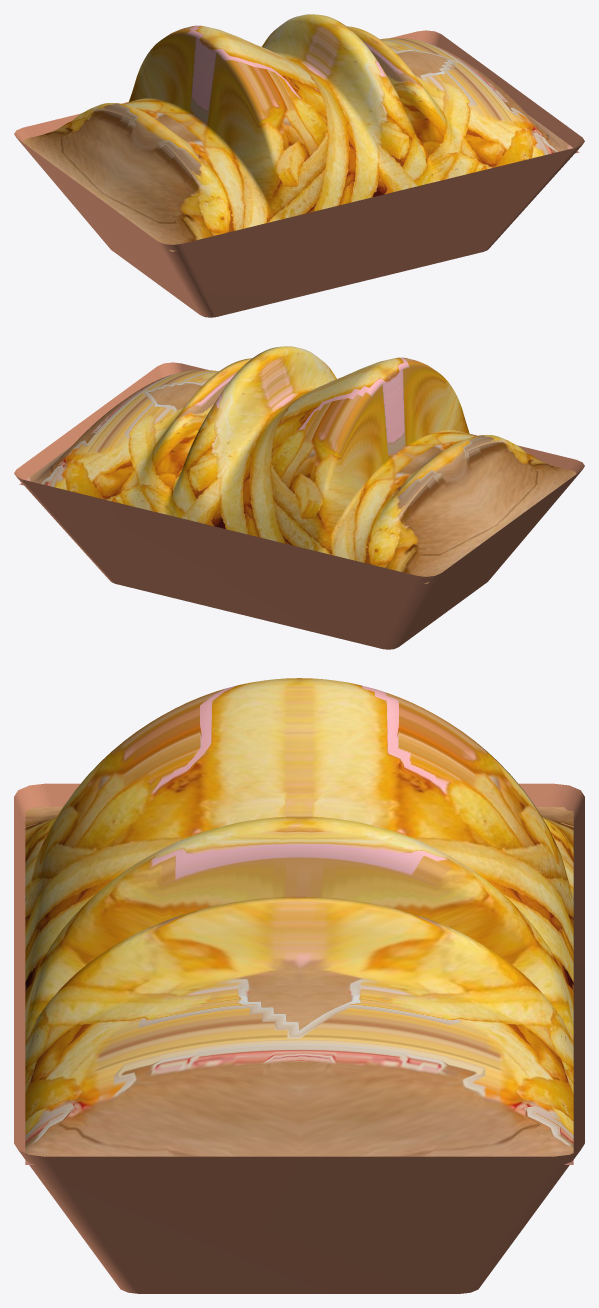
Rendered from fries.glb.
The picture shows the model from 3 angles, top to bottom: view 1: azimuth 30°, elevation 25°; view 2: azimuth 150°, elevation 25°; view 3: azimuth 270°, elevation 25°; orthographic projection. The views are drawn at different scales.
Parts seen in each view (by area): view 1: Dish; view 2: Dish; view 3: Dish.
Part boxes in pixels (x1,y1,x2,y2): Dish: (14, 14, 584, 317); Dish: (14, 346, 584, 649); Dish: (14, 678, 584, 1293).
Size of the model in its own units: 0.17 by 0.0882 by 0.11.
2 materials, 1 textured.
